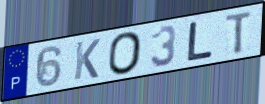3: (149, 24, 177, 70)
6: (35, 44, 63, 89)
K: (72, 37, 102, 82)
L: (185, 20, 215, 63)
O: (108, 30, 144, 76)
T: (224, 9, 254, 56)
